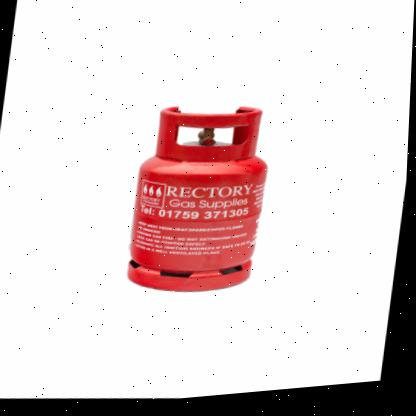gas-tank: (85, 80, 314, 348)
